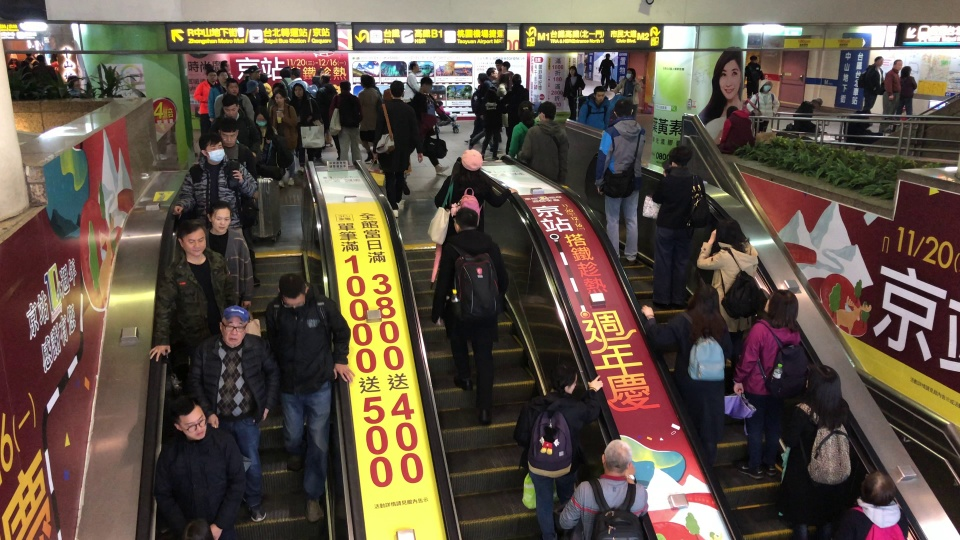person_head: (171, 395, 207, 442), (804, 363, 841, 404), (218, 305, 249, 348), (685, 282, 720, 320), (859, 470, 895, 506), (763, 288, 798, 325), (207, 68, 229, 125), (601, 438, 632, 476), (177, 218, 208, 256), (277, 272, 308, 310), (548, 363, 578, 395), (206, 199, 232, 234), (715, 217, 743, 249), (198, 131, 225, 164), (180, 515, 215, 540), (453, 207, 478, 233), (218, 117, 239, 147), (667, 144, 693, 168), (460, 148, 482, 171), (221, 93, 239, 120), (613, 97, 634, 118), (537, 101, 557, 121), (516, 100, 534, 120), (388, 79, 405, 99), (253, 107, 270, 127), (224, 76, 239, 97), (592, 85, 606, 103), (419, 76, 433, 94), (65, 74, 81, 89), (359, 73, 374, 88), (244, 80, 259, 95), (292, 82, 306, 98), (758, 79, 773, 93), (724, 104, 739, 118), (248, 65, 262, 80), (273, 89, 285, 105), (509, 72, 522, 86), (484, 85, 498, 98), (485, 67, 498, 81), (810, 97, 823, 110), (339, 80, 352, 93), (872, 54, 884, 68), (272, 82, 284, 96), (216, 69, 228, 83), (891, 59, 903, 72), (408, 60, 420, 73), (279, 66, 292, 78), (205, 69, 217, 82), (219, 59, 230, 73), (900, 65, 912, 77), (624, 68, 636, 80), (498, 73, 510, 85), (319, 73, 331, 85), (290, 67, 301, 80), (477, 72, 487, 86), (203, 63, 213, 75), (500, 61, 511, 71), (567, 65, 577, 75), (315, 67, 325, 77), (259, 72, 268, 83), (495, 58, 503, 70), (36, 54, 45, 64), (242, 68, 249, 80), (749, 55, 757, 64), (9, 53, 17, 62), (604, 53, 611, 61), (436, 99, 443, 107), (55, 52, 59, 61), (25, 51, 31, 57)
person_vbox: (264, 272, 356, 522), (186, 305, 280, 522), (429, 207, 511, 427), (640, 282, 731, 472), (511, 362, 604, 540), (172, 130, 261, 286), (151, 394, 246, 540), (731, 287, 802, 480), (148, 218, 240, 363), (778, 363, 852, 540), (695, 215, 759, 375), (557, 438, 649, 540), (650, 145, 704, 311), (593, 98, 645, 266), (432, 147, 518, 242), (372, 79, 424, 219), (202, 198, 255, 313), (828, 471, 910, 540), (516, 101, 570, 187), (407, 76, 450, 175), (208, 93, 263, 165), (466, 67, 499, 161), (327, 80, 363, 166), (289, 82, 322, 174), (268, 88, 297, 188), (495, 73, 530, 155), (217, 117, 257, 180), (478, 85, 509, 162), (356, 73, 382, 163), (252, 107, 287, 168), (877, 58, 904, 134), (716, 103, 755, 155), (745, 79, 780, 136), (213, 76, 254, 124), (507, 99, 538, 159), (463, 72, 488, 145), (890, 65, 917, 132), (861, 54, 885, 127), (193, 69, 218, 137), (613, 67, 643, 122), (315, 73, 337, 148), (577, 84, 611, 132), (842, 109, 882, 149), (563, 65, 586, 123), (495, 73, 511, 156), (237, 65, 268, 107), (791, 96, 825, 134), (743, 54, 764, 98), (266, 82, 290, 116), (31, 53, 58, 83), (286, 67, 311, 98), (403, 59, 421, 102), (435, 98, 460, 127), (597, 52, 613, 91), (244, 79, 260, 111), (65, 74, 86, 98), (278, 66, 292, 95), (259, 72, 273, 97), (311, 67, 327, 87), (48, 52, 59, 74), (7, 52, 20, 69), (22, 50, 34, 63)
